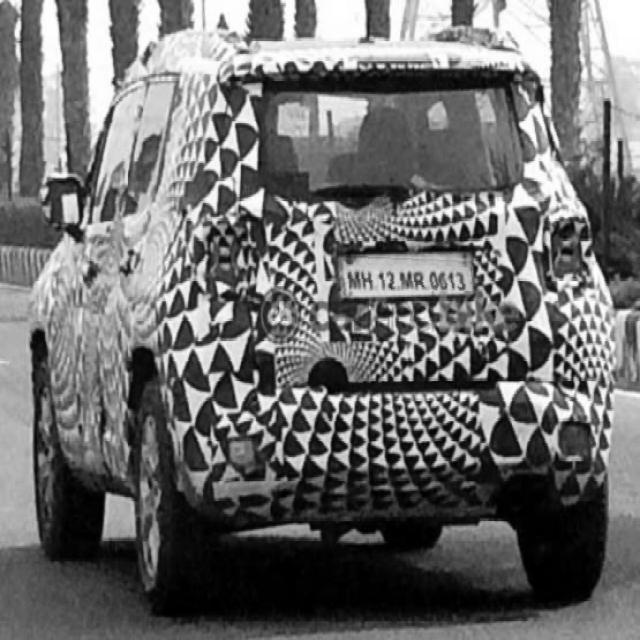licence: (334, 255, 472, 291)
